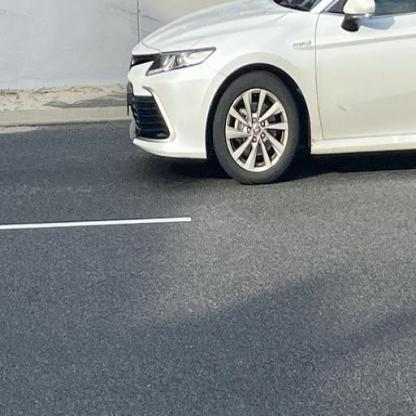Tire: (214, 71, 299, 185)
